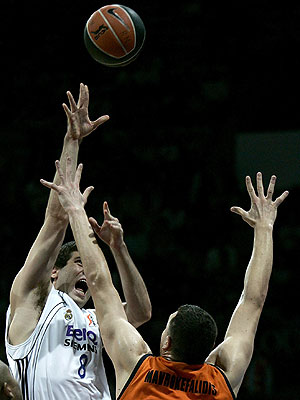basketball: (83, 4, 147, 67)
